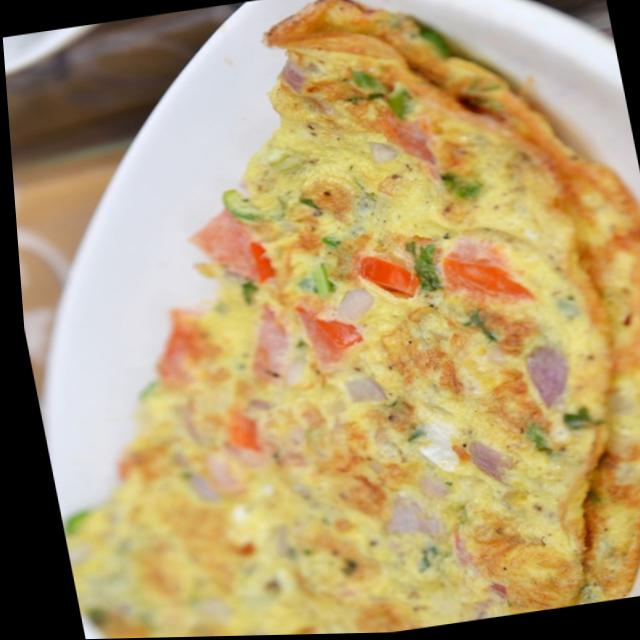EGG: (61, 0, 640, 639)
